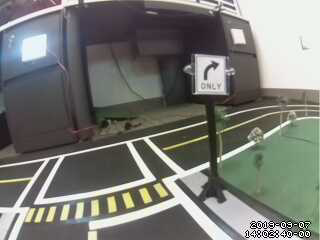Right_only_sign: (186, 54, 226, 98)
